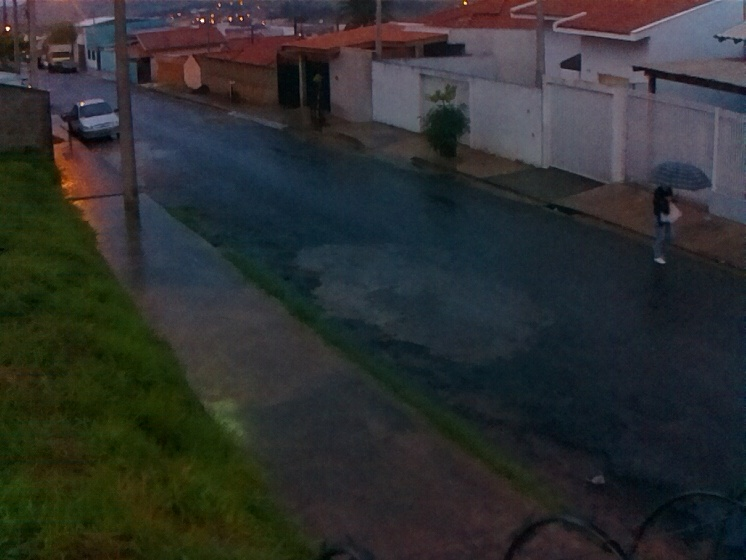person: (650, 181, 678, 268)
